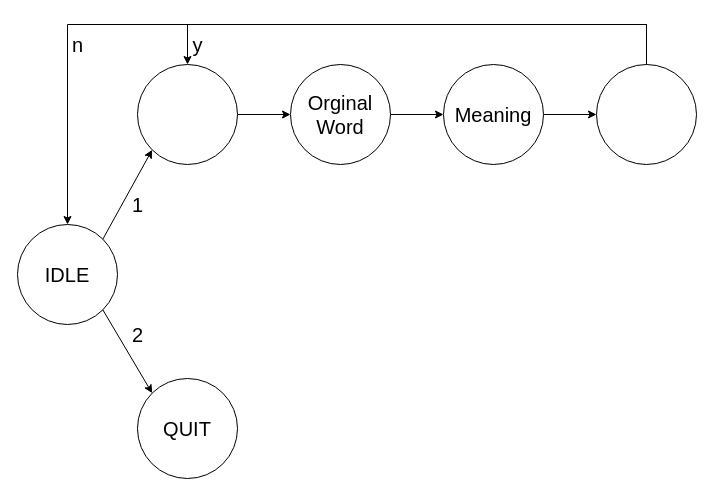
The diagram is 714 pixels wide and 496 high, and some of its shapes have lost their labels. Each missing label, with the centre of its shape:
"Sentence" goes at (x=646, y=114).
"WORD" goes at (x=187, y=114).
